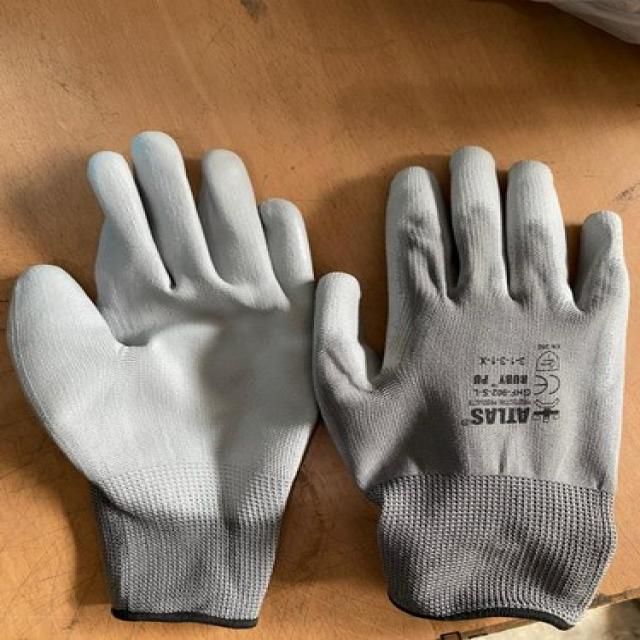gloves: (10, 131, 321, 628), (311, 147, 626, 629)
